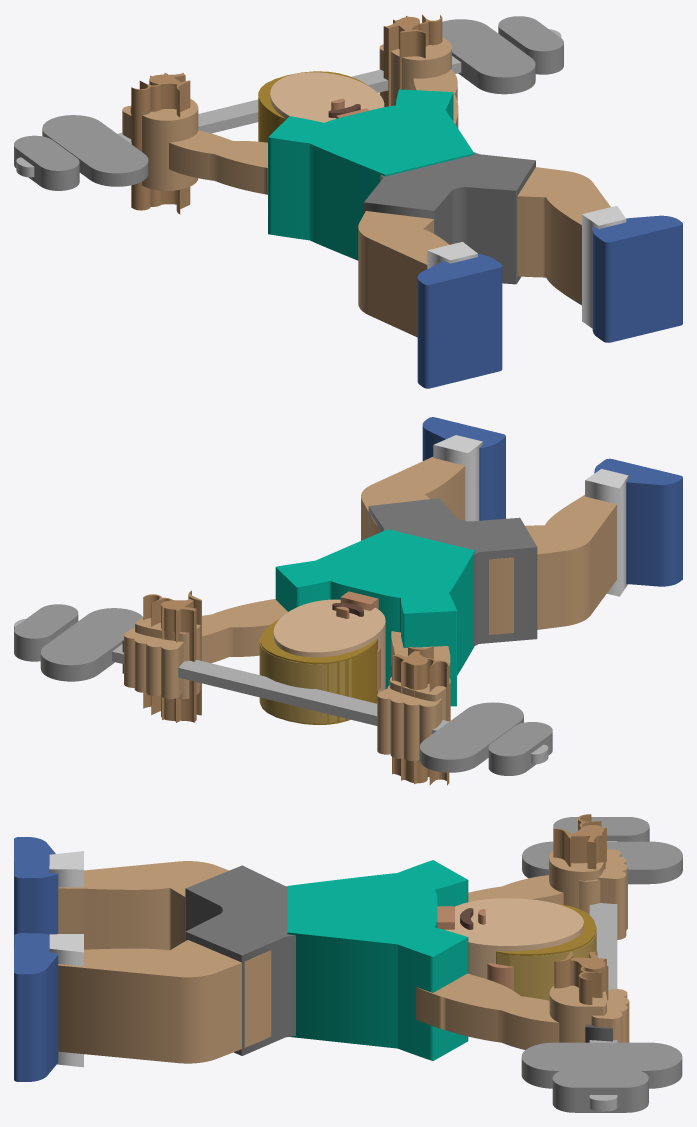
The model's file is emoji_u1f3cb_1f3fc_200d_2642.glb.
3 views of the same model, one above another, from view 1: azimuth 30°, elevation 25°; view 2: azimuth 150°, elevation 25°; view 3: azimuth 270°, elevation 25° (orthographic). The views are drawn at different scales.
Parts seen in each view (by area): view 1: emoji_u1f3cb_1f3fc_200d_2642; view 2: emoji_u1f3cb_1f3fc_200d_2642; view 3: emoji_u1f3cb_1f3fc_200d_2642.
Boxes of the visible parts, x1,y1,x2,y2 form: emoji_u1f3cb_1f3fc_200d_2642: (14, 14, 682, 388); emoji_u1f3cb_1f3fc_200d_2642: (14, 417, 682, 785); emoji_u1f3cb_1f3fc_200d_2642: (14, 814, 682, 1112).
Bounding box in the file's own units: 0.0338 × 0.0074 × 0.0337.
